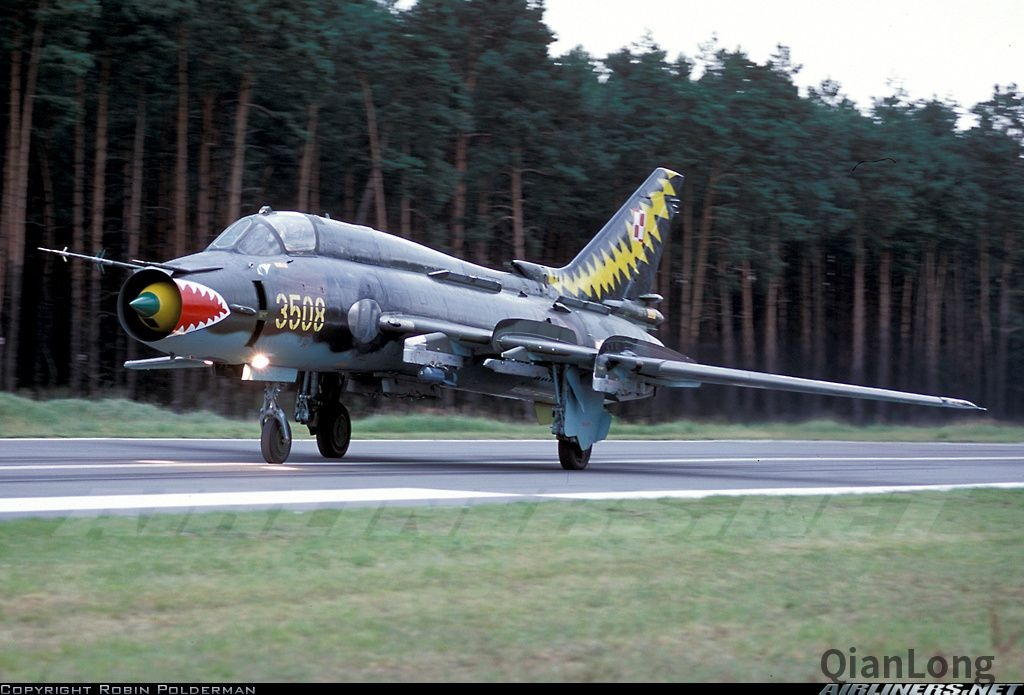airplane: (15, 166, 995, 469)
